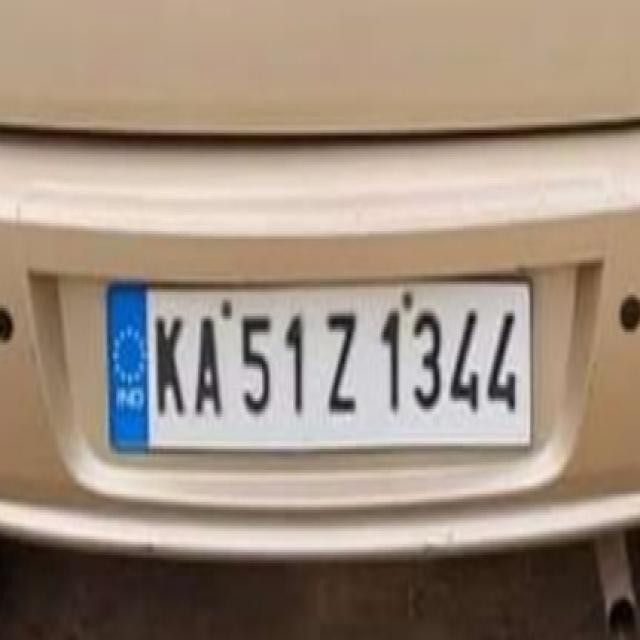1: (377, 296, 405, 418), (282, 309, 309, 423)
3: (406, 302, 444, 419)
4: (448, 296, 484, 421), (487, 298, 522, 426)
5: (240, 311, 279, 428)
A: (188, 302, 222, 428)
K: (152, 308, 187, 422)
Z: (322, 299, 366, 436)
